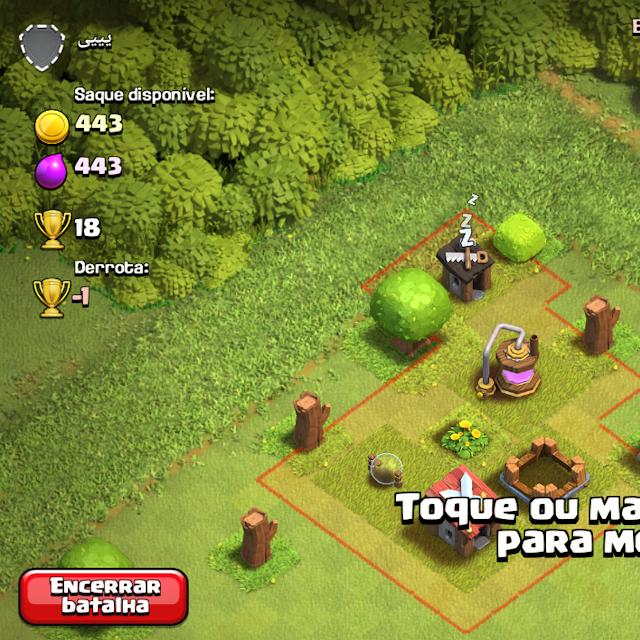ValueCoin: (75, 107, 133, 143)
ValueElixir: (68, 156, 134, 186)
